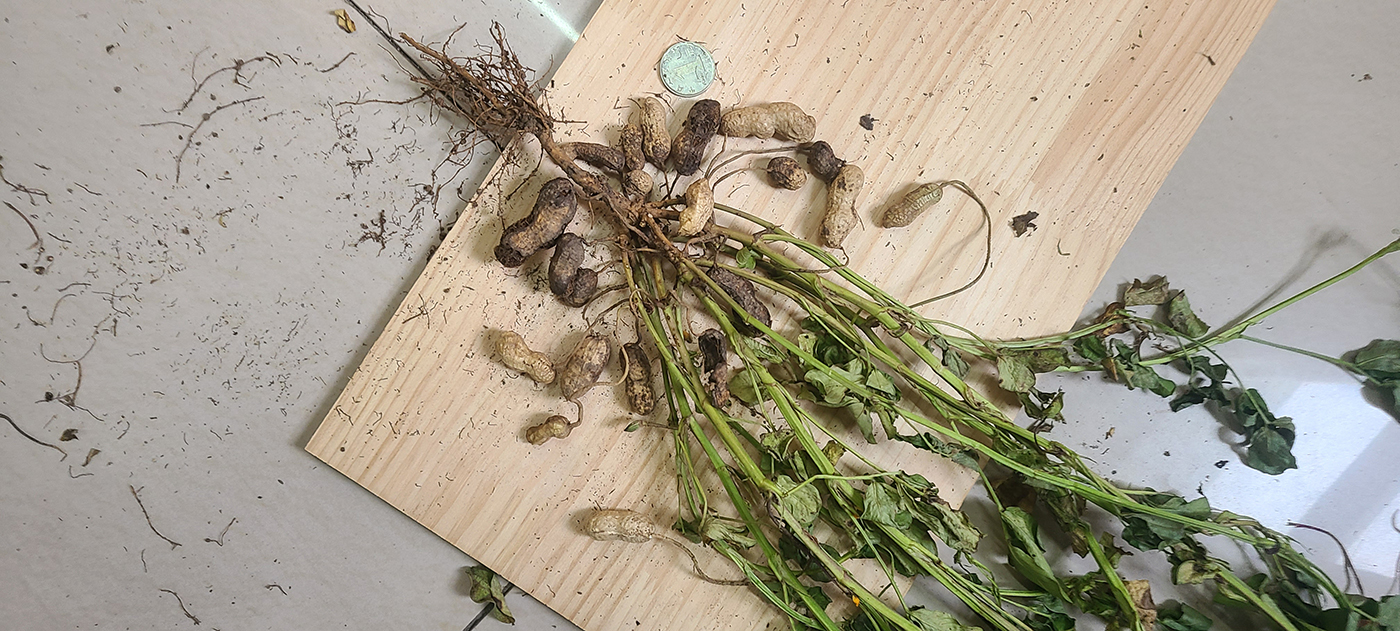h: (809, 141, 862, 246), (721, 102, 818, 143), (494, 331, 555, 384), (561, 335, 605, 402), (619, 343, 659, 415), (882, 184, 944, 230), (581, 509, 658, 546), (678, 180, 714, 236), (577, 142, 629, 173), (525, 413, 572, 444), (768, 157, 806, 191), (624, 124, 643, 171), (623, 170, 654, 196)
l: (495, 178, 577, 268), (706, 268, 771, 336), (673, 100, 718, 178), (552, 237, 595, 308), (697, 330, 735, 408)
